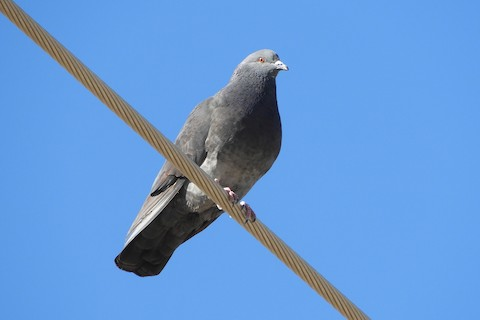pigeon: (110, 43, 302, 282)
